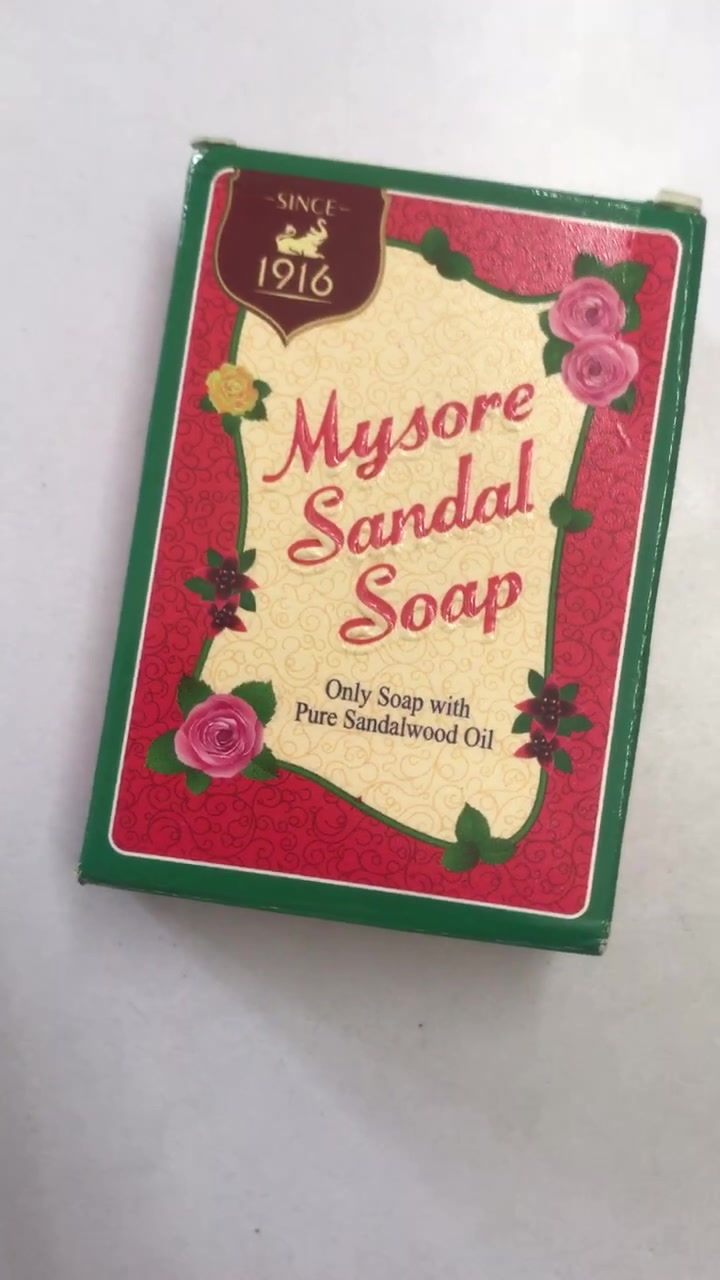mysore sandal soap: (89, 141, 688, 945)
